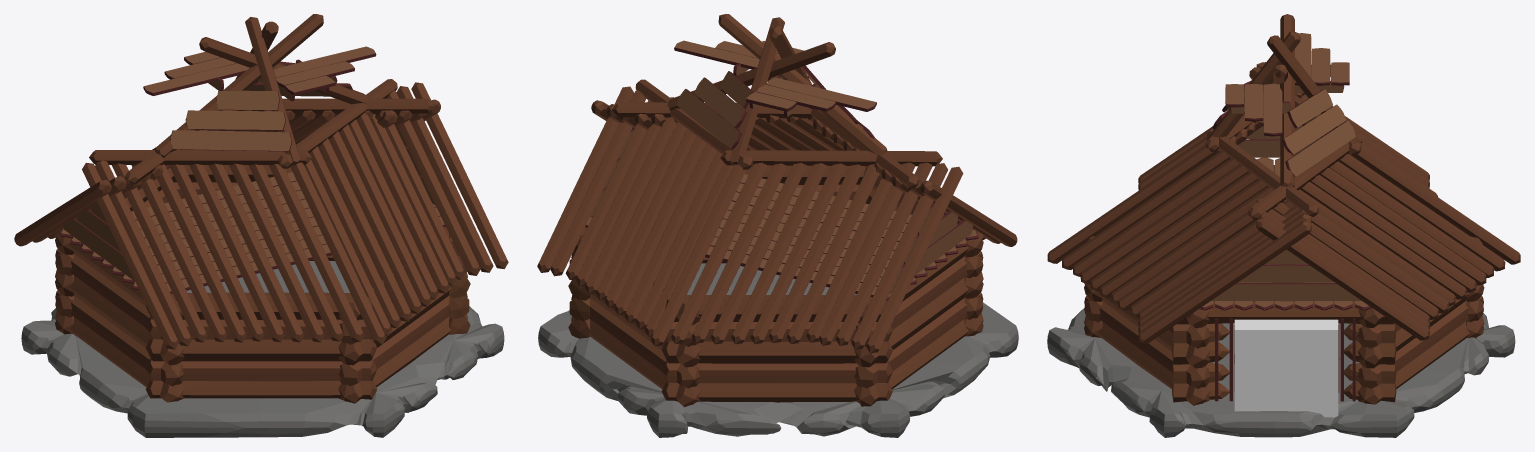
The model's file is gaybar.fbx.
3 views of the same model, side by side, from view 1: azimuth 30°, elevation 25°; view 2: azimuth 150°, elevation 25°; view 3: azimuth 270°, elevation 25° (orthographic). The views are drawn at different scales.
Visible parts, largest first — view 1: Cylinder.255, Cylinder.278, Cylinder.277, Cylinder.276, Cylinder.314, Cylinder.317, Cylinder.316, Cylinder.313, Cylinder.312, Cylinder.319, Cylinder.318, Cylinder.326 (+57 smaller); view 2: Cylinder.255, Cylinder.268, Cylinder.267, Cylinder.266, Cylinder.301, Cylinder.343, Cylinder.342, Cylinder.345, Cylinder.341, Cylinder.333, Cylinder.344, Cylinder.340 (+56 smaller); view 3: Cylinder.255, Cube, Cylinder.293, Cylinder.286, Cylinder.333, Cylinder.314, Cylinder.328, Cylinder.338, Cylinder.332, Cylinder.326, Cylinder.336, Cylinder.325 (+48 smaller).
Part boxes in pixels (x1,y1,x2,y2): Cylinder.255: [21, 261, 504, 437]; Cylinder.278: [146, 339, 376, 361]; Cylinder.277: [145, 358, 377, 381]; Cylinder.276: [145, 380, 377, 399]; Cylinder.314: [290, 162, 386, 344]; Cylinder.317: [229, 163, 324, 342]; Cylinder.316: [208, 163, 304, 342]; Cylinder.313: [189, 163, 284, 342]; Cylinder.312: [169, 164, 264, 341]; Cylinder.319: [268, 163, 364, 342]; Cylinder.318: [248, 164, 343, 341]; Cylinder.326: [318, 138, 412, 321]; Cylinder.255: [538, 263, 1018, 437]; Cylinder.268: [662, 341, 892, 363]; Cylinder.267: [661, 360, 892, 383]; Cylinder.266: [661, 382, 892, 402]; Cylinder.301: [866, 166, 963, 353]; Cylinder.343: [710, 163, 806, 344]; Cylinder.342: [731, 163, 827, 344]; Cylinder.345: [671, 162, 767, 343]; Cylinder.341: [750, 163, 846, 344]; Cylinder.333: [650, 164, 745, 346]; Cylinder.344: [691, 163, 787, 343]; Cylinder.340: [769, 164, 864, 342]; Cylinder.255: [1047, 282, 1515, 437]; Cube: [1234, 319, 1338, 417]; Cylinder.293: [1138, 221, 1311, 343]; Cylinder.286: [1256, 218, 1429, 340]; Cylinder.333: [1348, 145, 1520, 264]; Cylinder.314: [1047, 145, 1220, 263]; Cylinder.328: [1062, 150, 1230, 269]; Cylinder.338: [1338, 154, 1505, 271]; Cylinder.332: [1300, 182, 1466, 299]; Cylinder.326: [1080, 164, 1249, 284]; Cylinder.336: [1320, 167, 1486, 285]; Cylinder.325: [1090, 172, 1258, 291].
Size of the model in its own units: 1820 by 1560 by 2091.
